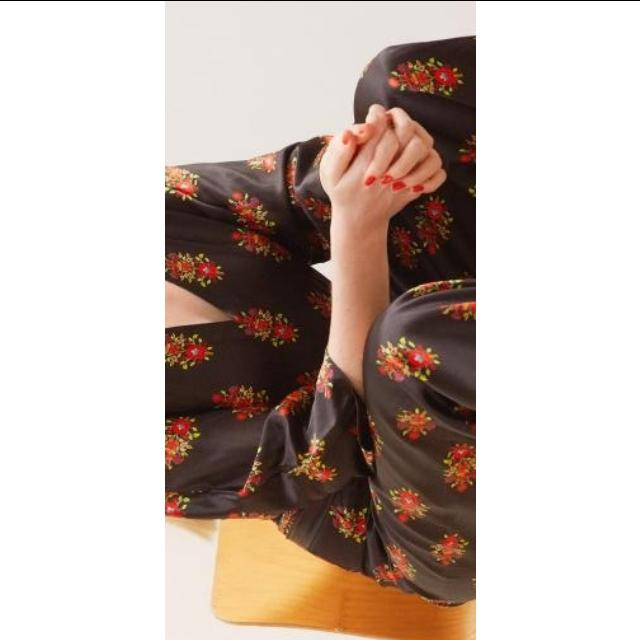silk: (165, 159, 318, 517)
